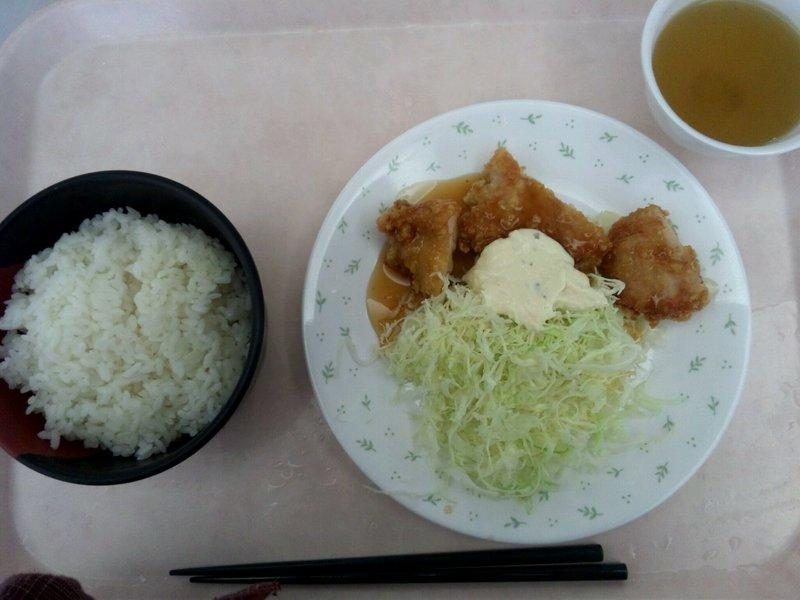plate: (0, 171, 262, 485)
rice: (0, 211, 250, 458)
